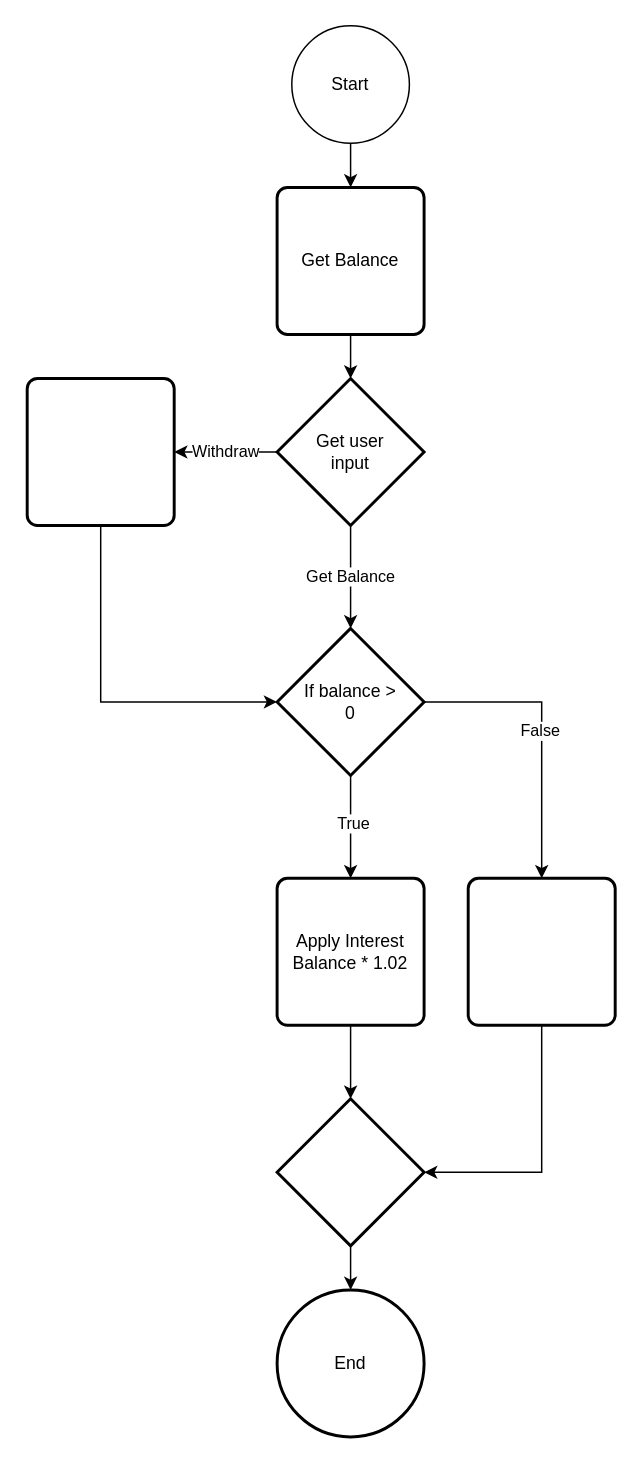
The diagram is 641 pixels wide and 1464 high, and some of its shapes have lost their labels. Here are the shapes that lost their labels. From the top down, the centre of each, then its label:
At point (100, 451): "Balance - Withdraw".
At point (541, 951): "Status: Overdrawn Apply Overdrawn fee if needed".
At point (350, 1172): "(Merge) return Balance".
